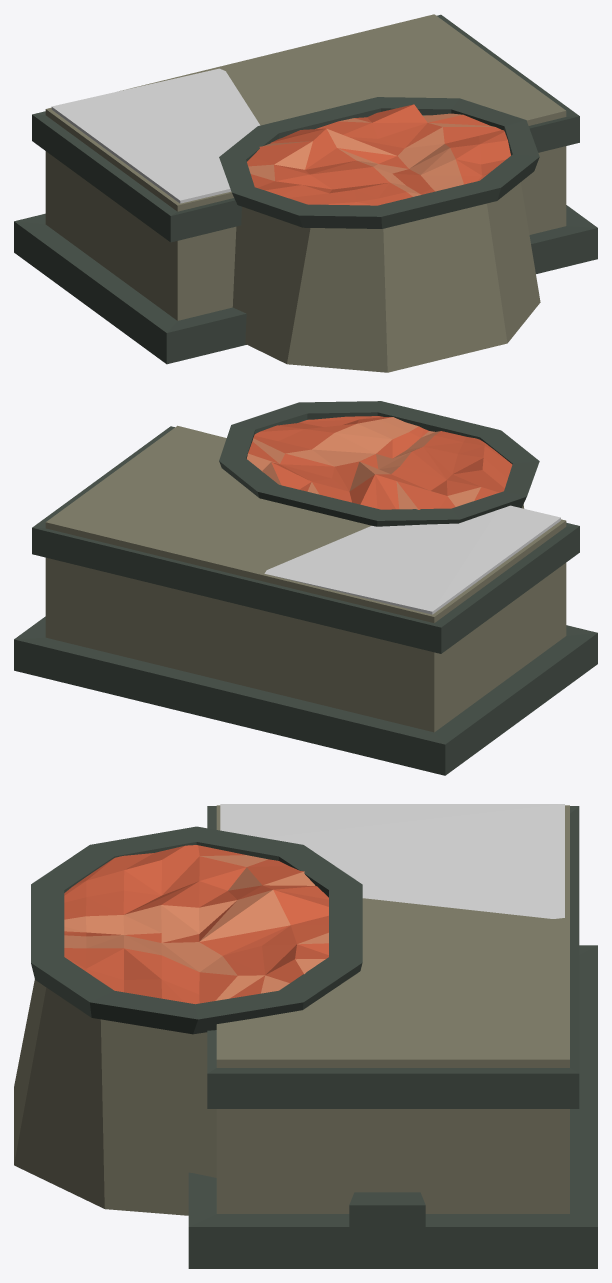
File: Heater_1_snow_mat.fbx
3 renders of one model, top to bottom at view 1: azimuth 30°, elevation 25°; view 2: azimuth 150°, elevation 25°; view 3: azimuth 270°, elevation 25°, orthographic. The views are drawn at different scales.
Parts seen in each view (by area): view 1: Heater_1_snow_mat; view 2: Heater_1_snow_mat; view 3: Heater_1_snow_mat.
Part boxes in pixels (x1=…): Heater_1_snow_mat: x1=14, y1=14, x2=597, y2=372; Heater_1_snow_mat: x1=14, y1=401, x2=597, y2=775; Heater_1_snow_mat: x1=14, y1=804, x2=597, y2=1268.
Size of the model in its own units: 1.42 by 0.5234 by 1.25.
